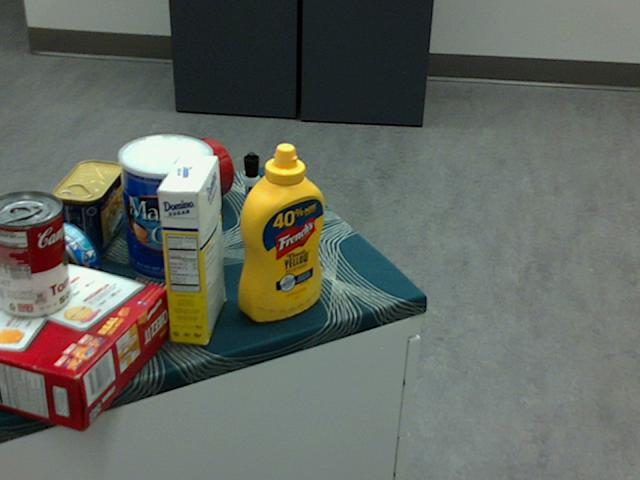cracker_box: (0, 244, 168, 431)
gelatin_box: (0, 197, 3, 230)
large_marker: (244, 151, 260, 245)
master_chef_can: (116, 133, 213, 283)
mug: (143, 137, 232, 216)
mustard_bottle: (237, 141, 325, 320)
potted_meat_can: (53, 158, 123, 260)
sugar_box: (156, 153, 226, 344)
tomato_soup_can: (0, 191, 70, 318)
tuna_fish_can: (19, 222, 100, 305)
